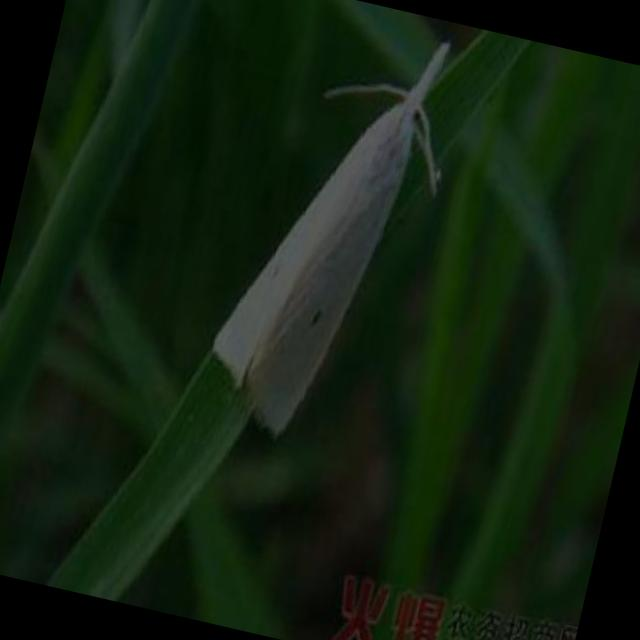stem-borer: (189, 1, 474, 472)
